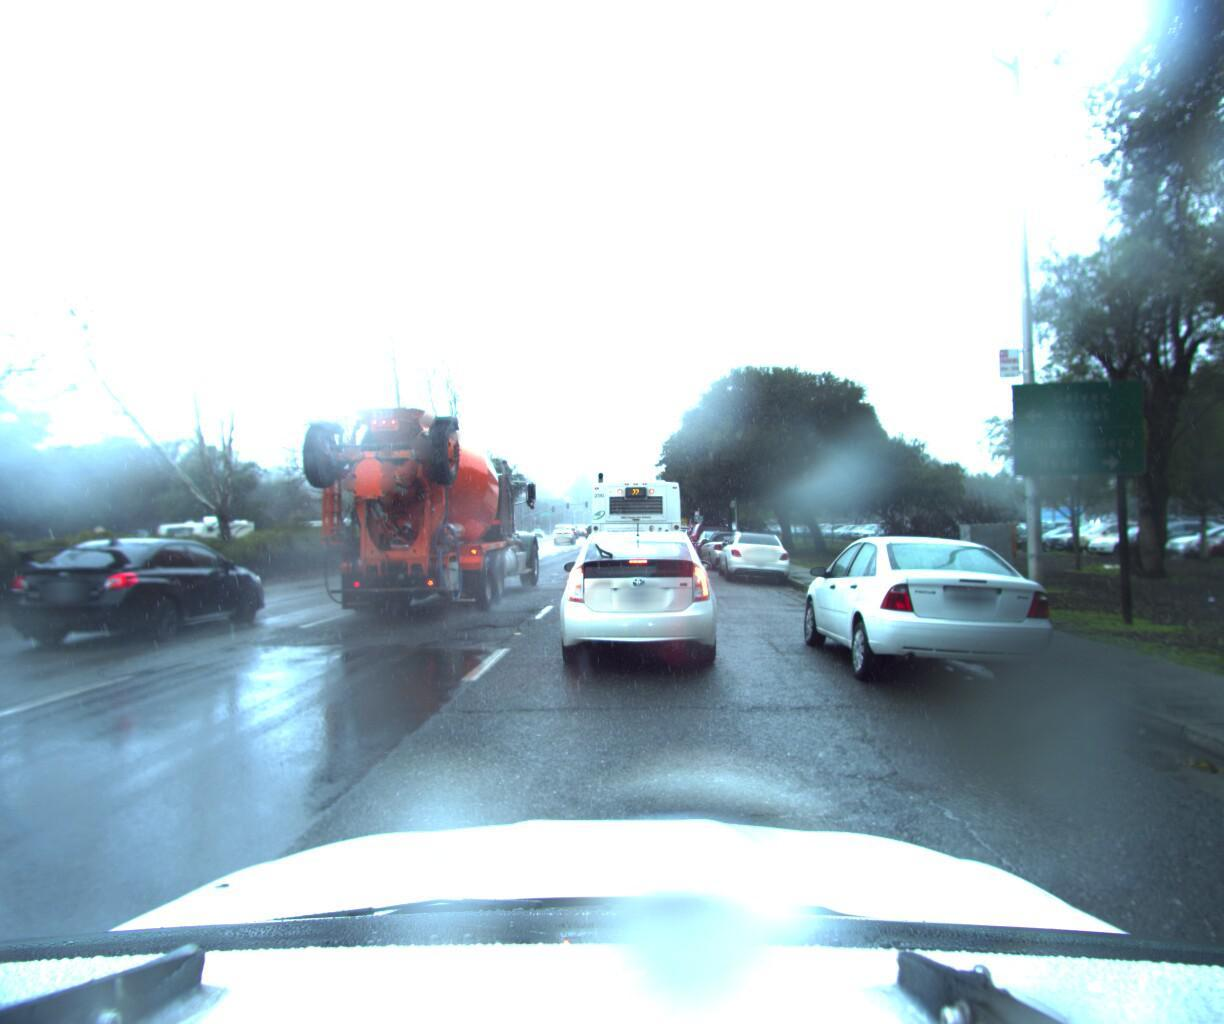bus: (585, 461, 691, 584)
car: (783, 527, 1070, 699), (547, 522, 722, 683), (708, 525, 794, 582), (695, 529, 755, 571), (553, 529, 578, 547)
other_vehicle: (155, 507, 268, 566)
truck: (274, 391, 547, 633)
